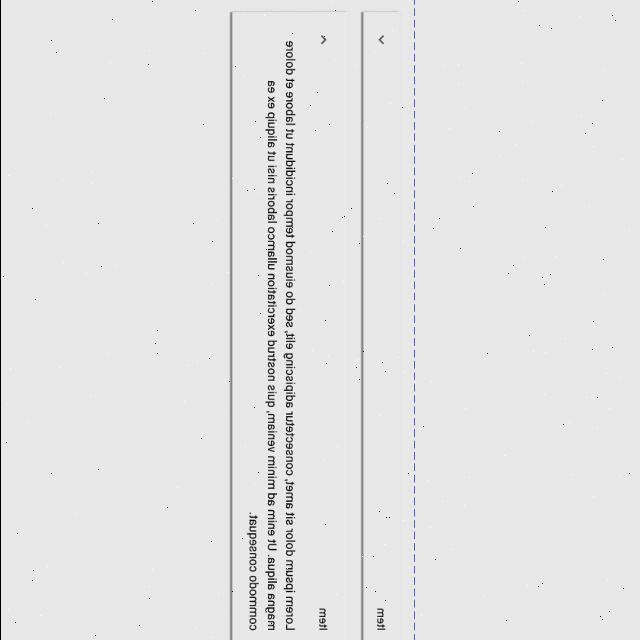QLabel: (248, 40, 296, 632), (317, 608, 328, 632), (376, 608, 386, 632)
VExpansionPanel: (230, 12, 348, 640), (360, 12, 402, 640)
